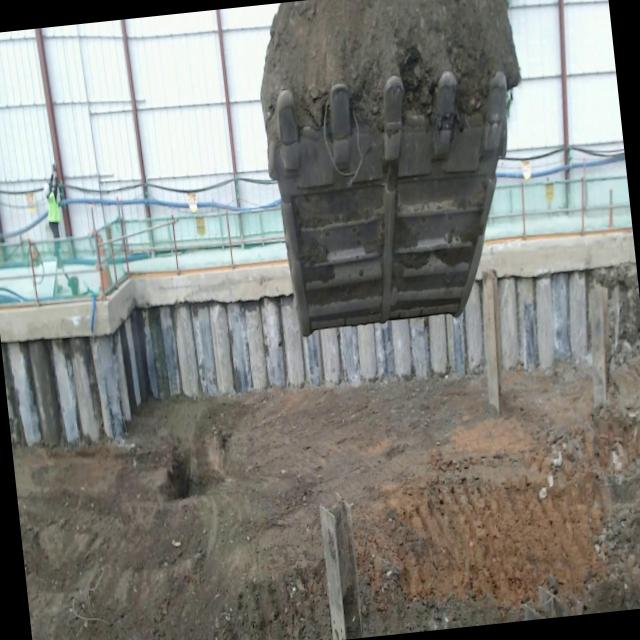white-sand: (12, 360, 640, 640), (260, 0, 519, 155)
